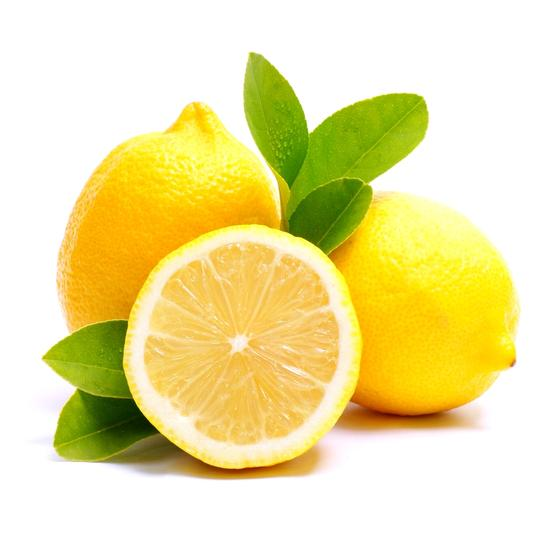lemon: (60, 101, 280, 337), (348, 189, 523, 419)
